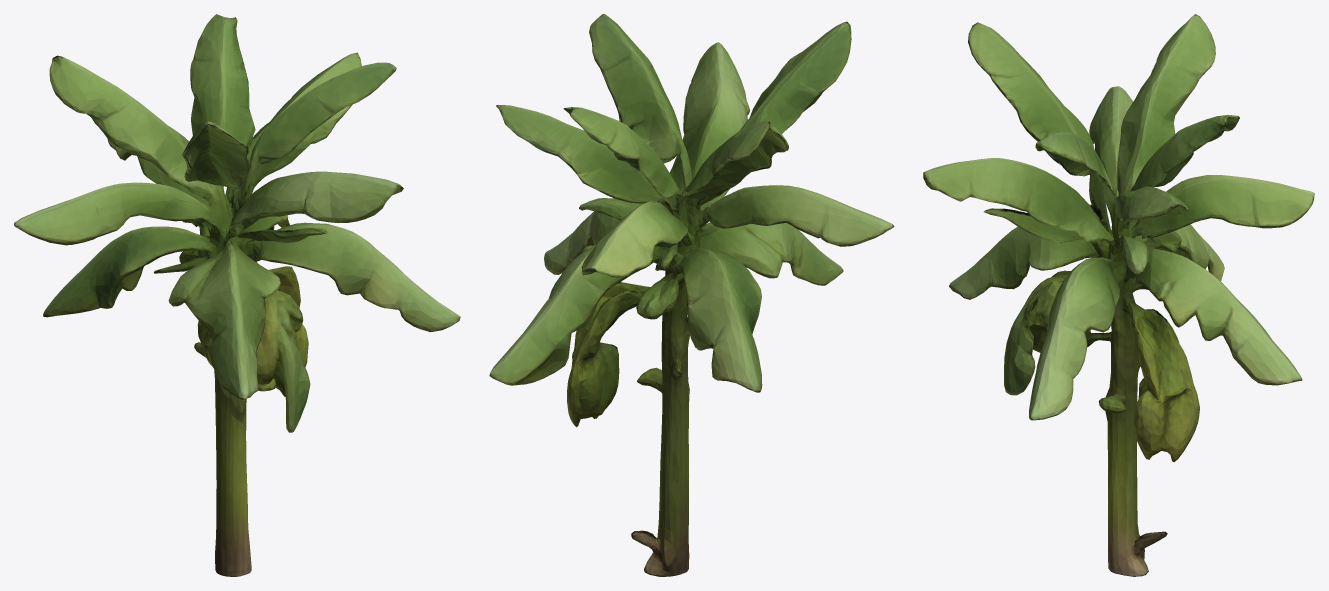
Rendered from banana_tree2.glb.
The picture shows the model from 3 angles, left to right: view 1: azimuth 30°, elevation 25°; view 2: azimuth 150°, elevation 25°; view 3: azimuth 270°, elevation 25°; orthographic projection. The views are drawn at different scales.
Visible parts, largest first — view 1: world; view 2: world; view 3: world.
Part boxes in pixels (left/top/right/bottom): world: left=14, top=14, right=460, bottom=576; world: left=489, top=14, right=894, bottom=576; world: left=923, top=14, right=1314, bottom=576.
Bounding box in the file's own units: 0.7967 × 1 × 0.7142.
1 material, 1 textured.
